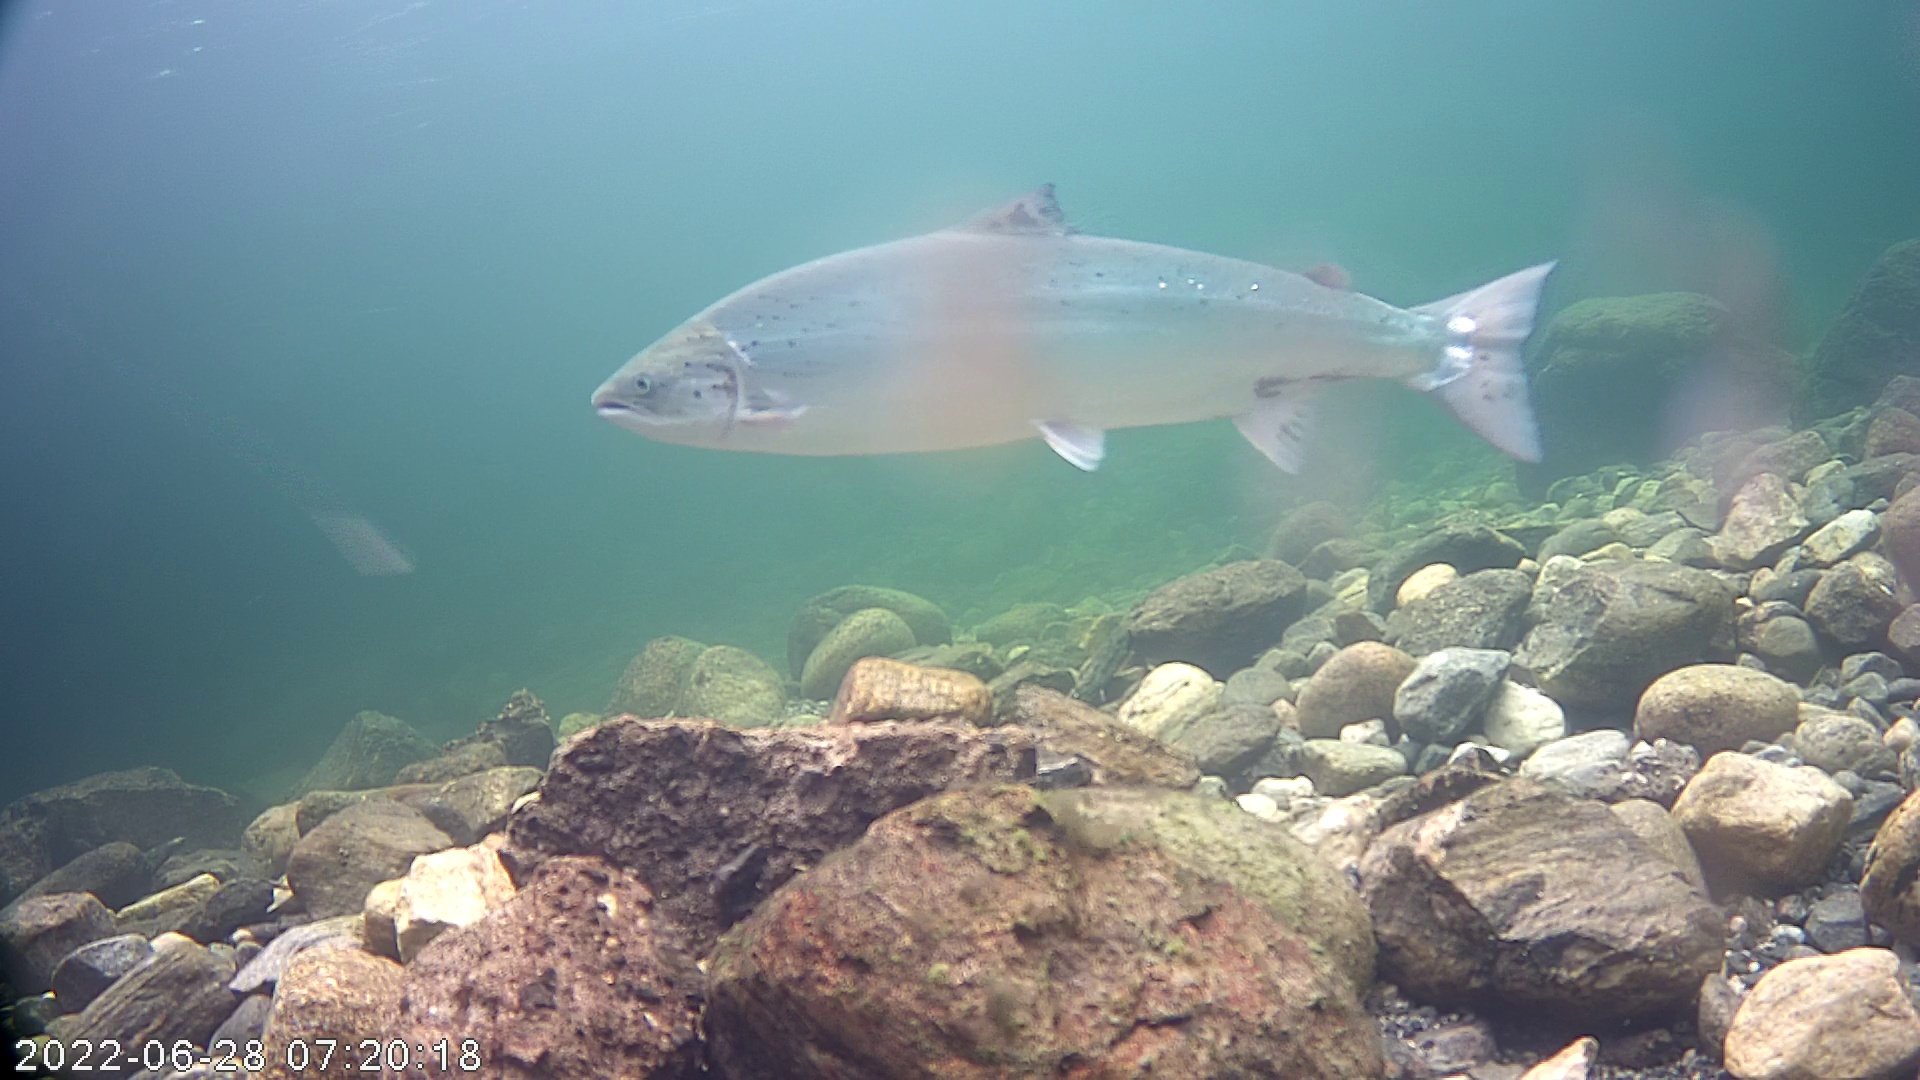salmon: (578, 113, 1588, 553)
